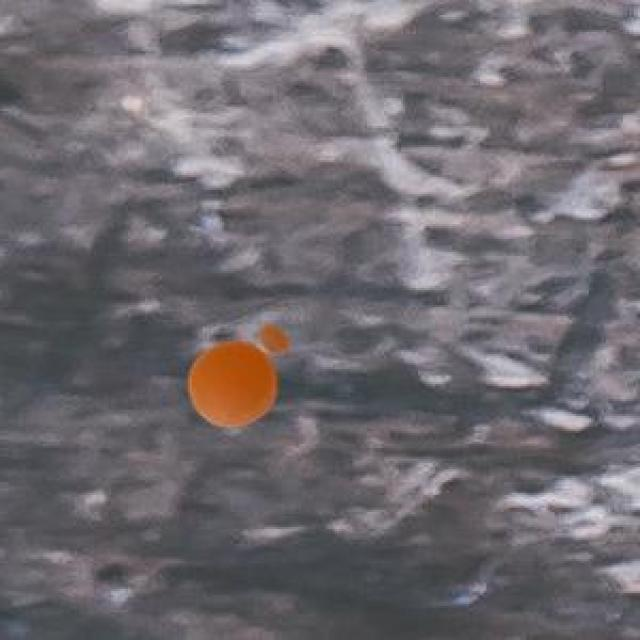Bactidol: (177, 310, 299, 442)
